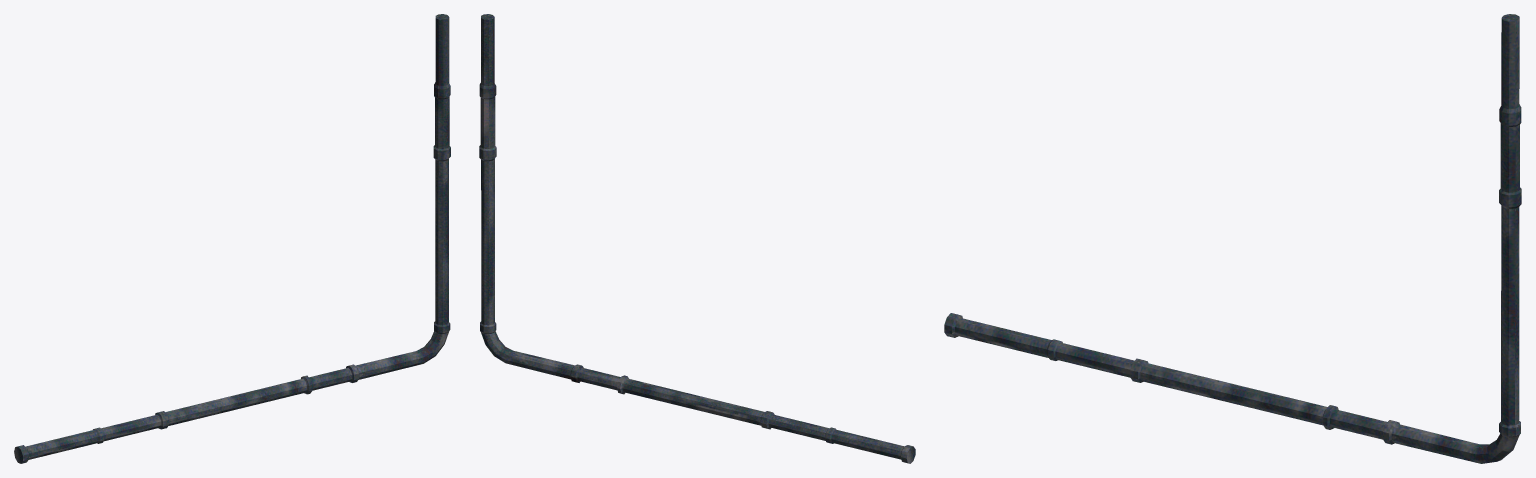
Rendered from Bentpipe.glb.
3 renders of one model, left to right at view 1: azimuth 30°, elevation 25°; view 2: azimuth 150°, elevation 25°; view 3: azimuth 330°, elevation 25°, orthographic. The views are drawn at different scales.
Parts seen in each view (by area): view 1: BentPipe; view 2: BentPipe; view 3: BentPipe.
Part boxes in pixels (x1,y1,x2,y2): BentPipe: (14, 14, 450, 463); BentPipe: (479, 14, 915, 463); BentPipe: (944, 14, 1521, 463).
Size of what is drawn, in the model's own units: 220 by 167 by 8.15.
Materials: 1 (1 with a texture image).
